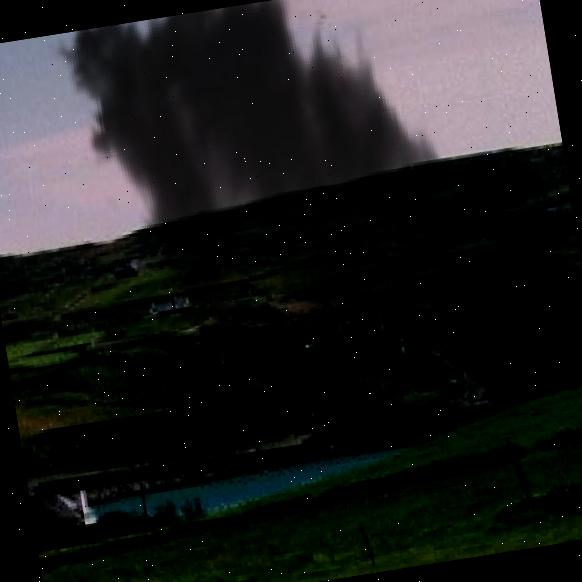smoke: (45, 0, 481, 397)
